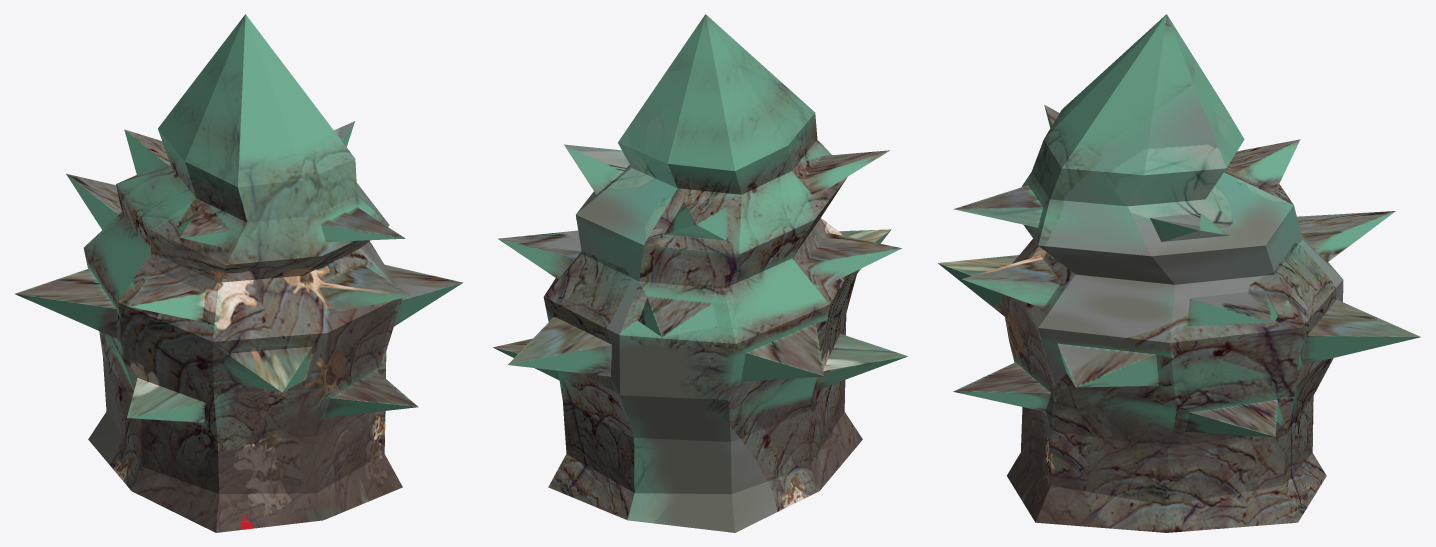
Rendered from Stage1_Thorn.fbx.
3 views of the same model, side by side, from view 1: azimuth 30°, elevation 25°; view 2: azimuth 150°, elevation 25°; view 3: azimuth 270°, elevation 25° (orthographic). The views are drawn at different scales.
Visible parts, largest first — view 1: Cube; view 2: Cube; view 3: Cube.
Part boxes in pixels (x1=…): Cube: x1=15, y1=14, x2=462, y2=532; Cube: x1=493, y1=14, x2=907, y2=532; Cube: x1=938, y1=14, x2=1420, y2=532.
Bounding box in the file's own units: 111 × 137 × 130.
